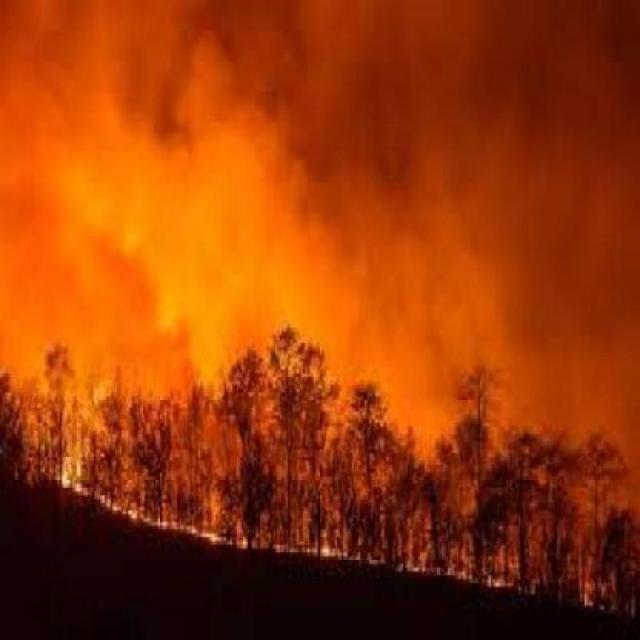Fire: (61, 424, 640, 619)
Smoke: (0, 23, 640, 331)
